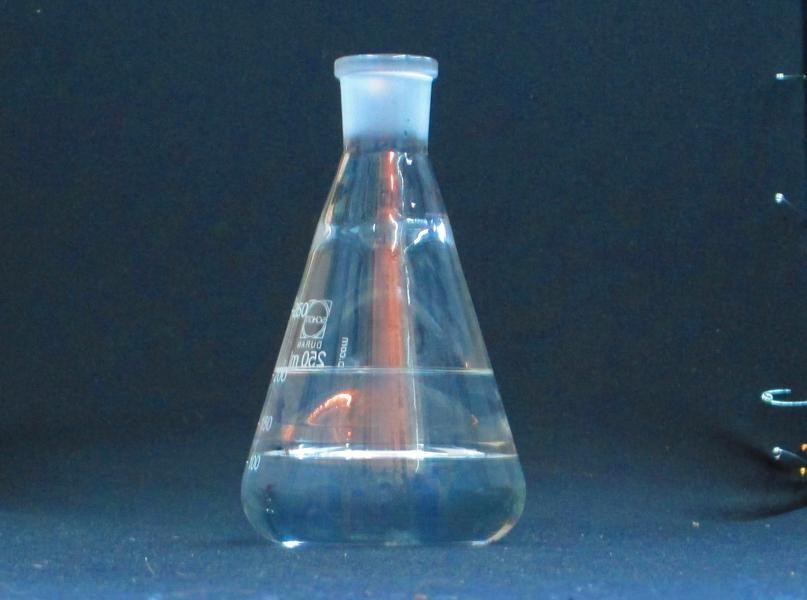Titrarion: (224, 31, 528, 549)
